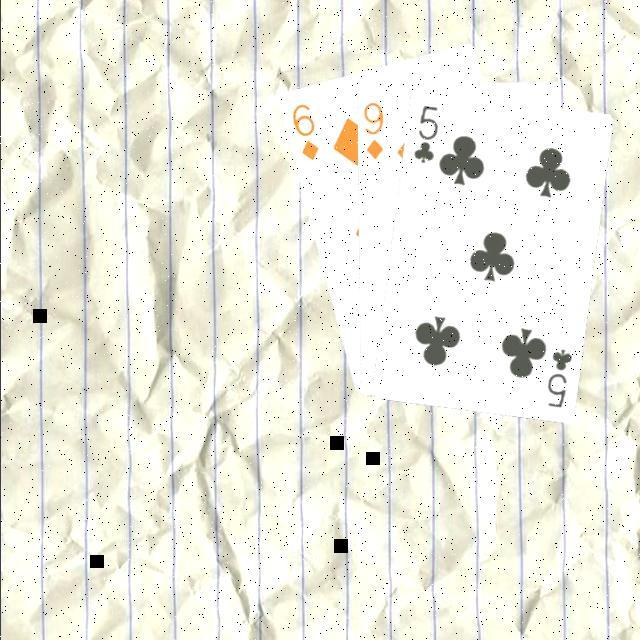5C: (542, 347, 574, 412), (409, 103, 439, 167)
6D: (286, 102, 320, 165)
9D: (360, 100, 384, 164)
